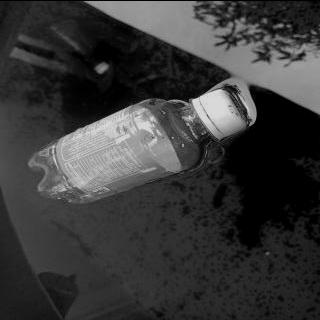bottle: (26, 85, 251, 204)
